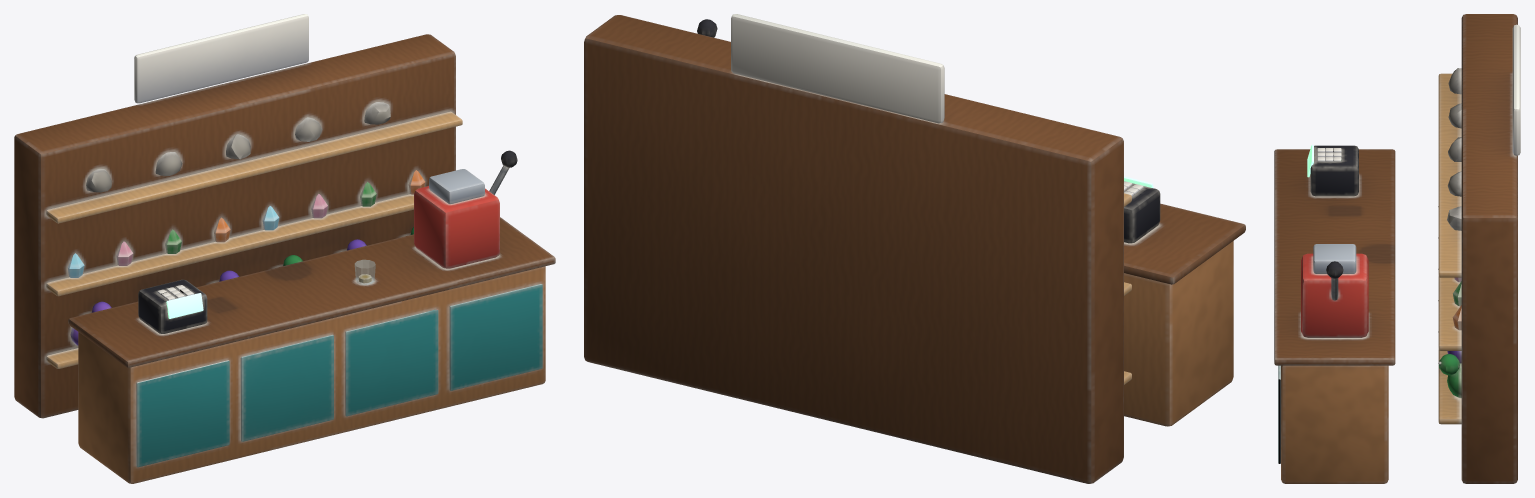
Rendered from gift_shop.glb.
The picture shows the model from 3 angles, left to right: view 1: azimuth 30°, elevation 25°; view 2: azimuth 150°, elevation 25°; view 3: azimuth 270°, elevation 25°; orthographic projection. The views are drawn at different scales.
Parts seen in each view (by area): view 1: SM_GiftShop; view 2: SM_GiftShop; view 3: SM_GiftShop.
Boxes of the visible parts, left/top/right/bottom form: SM_GiftShop: left=14, top=14, right=555, bottom=483; SM_GiftShop: left=584, top=14, right=1245, bottom=483; SM_GiftShop: left=1274, top=14, right=1520, bottom=483.
Size of what is drawn, in the model's own units: 3.7 by 2.6 by 1.83.
Materials: 3 (1 with a texture image).
